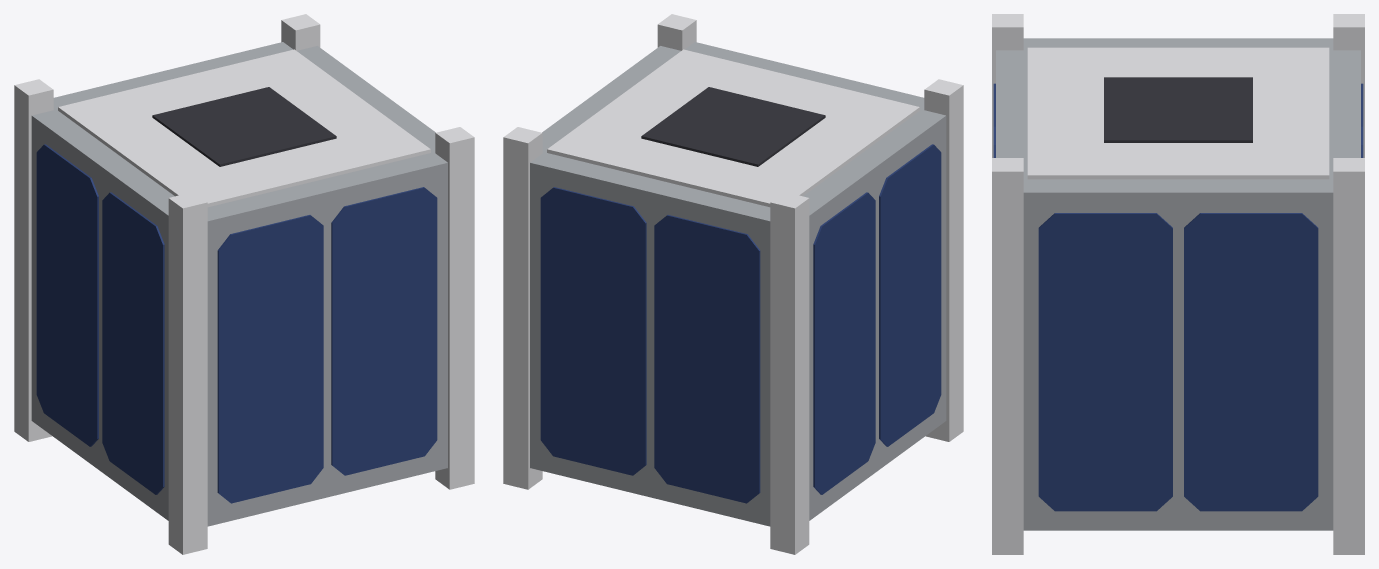
The model's file is CubeSat_1U.fbx.
3 renders of one model, left to right at view 1: azimuth 30°, elevation 25°; view 2: azimuth 150°, elevation 25°; view 3: azimuth 270°, elevation 25°, orthographic. The views are drawn at different scales.
Parts seen in each view (by area): view 1: CubeSat_1U; view 2: CubeSat_1U; view 3: CubeSat_1U.
Boxes of the visible parts, left/top/right/bottom form: CubeSat_1U: left=14, top=14, right=474, bottom=554; CubeSat_1U: left=503, top=14, right=963, bottom=554; CubeSat_1U: left=992, top=14, right=1364, bottom=554.
Size of the model in its own units: 0.1 by 0.1135 by 0.1.
